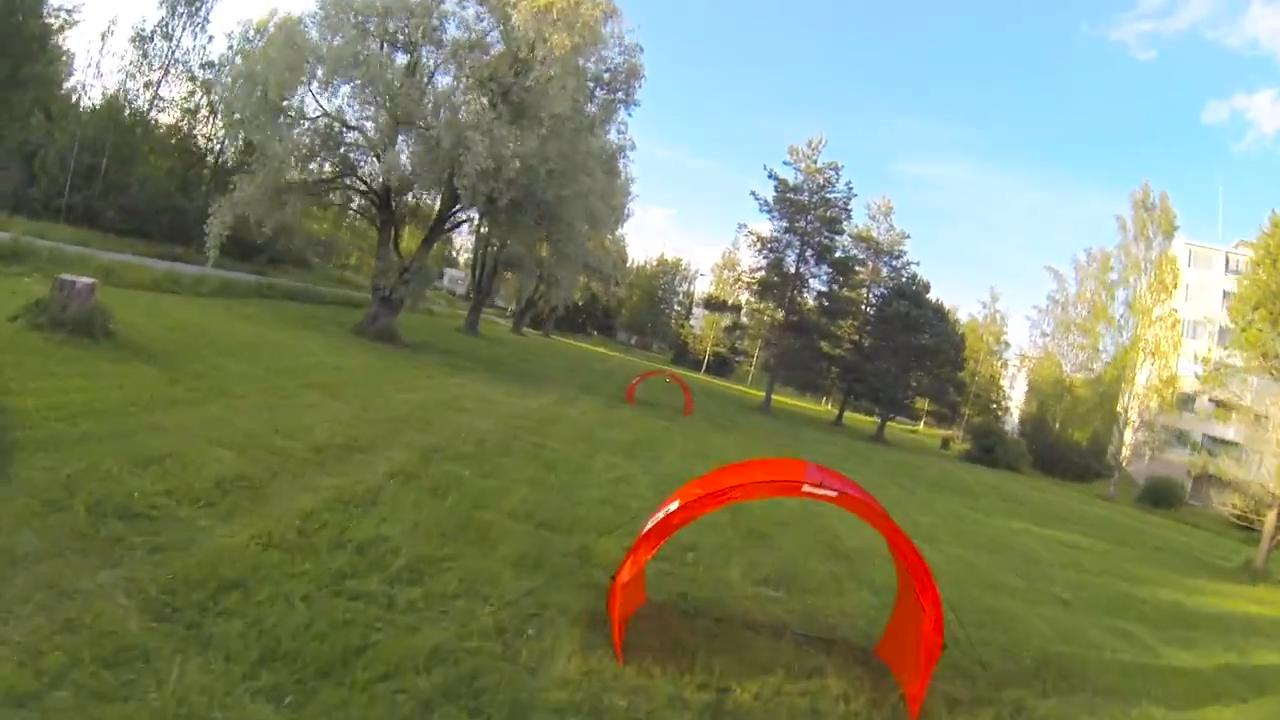gate: (604, 451, 941, 713)
